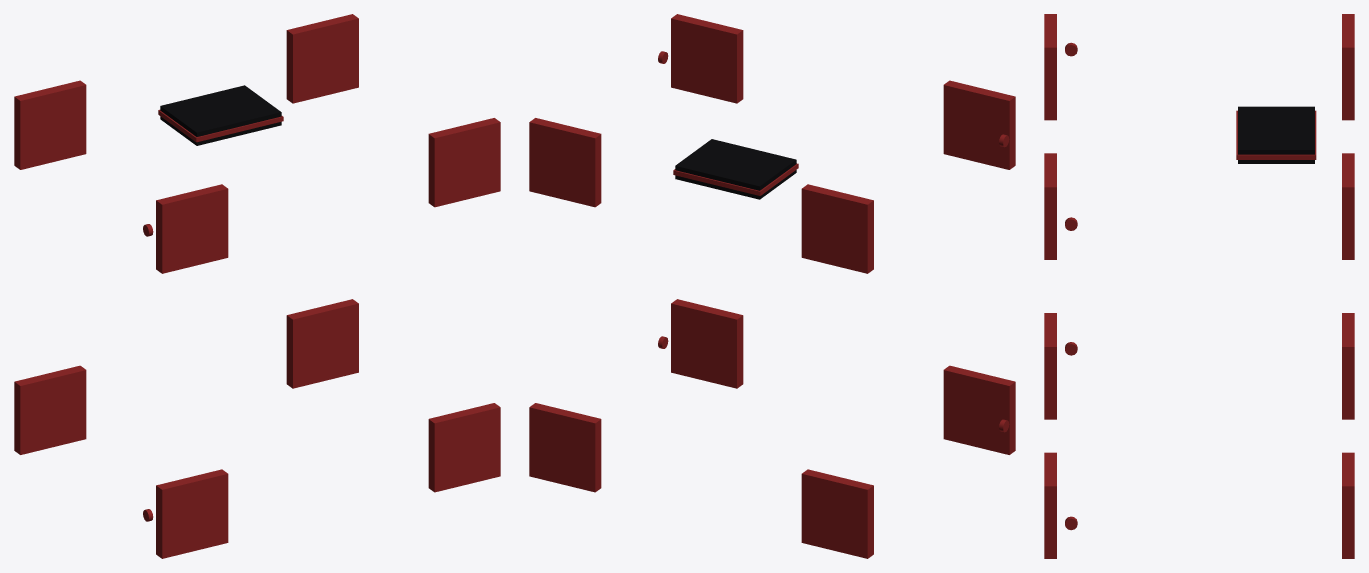
Rendered from z1_seal.obj.
The picture shows the model from 3 angles, left to right: view 1: azimuth 30°, elevation 25°; view 2: azimuth 150°, elevation 25°; view 3: azimuth 270°, elevation 25°; orthographic projection. The views are drawn at different scales.
Visible parts, largest first — view 1: z1_seal; view 2: z1_seal; view 3: z1_seal.
Part boxes in pixels (x1,y1,x2,y2): z1_seal: (14, 14, 500, 558); z1_seal: (529, 14, 1015, 558); z1_seal: (1044, 14, 1354, 558).
Size of the model in its own units: 1.63 by 1.6 by 1.21.
